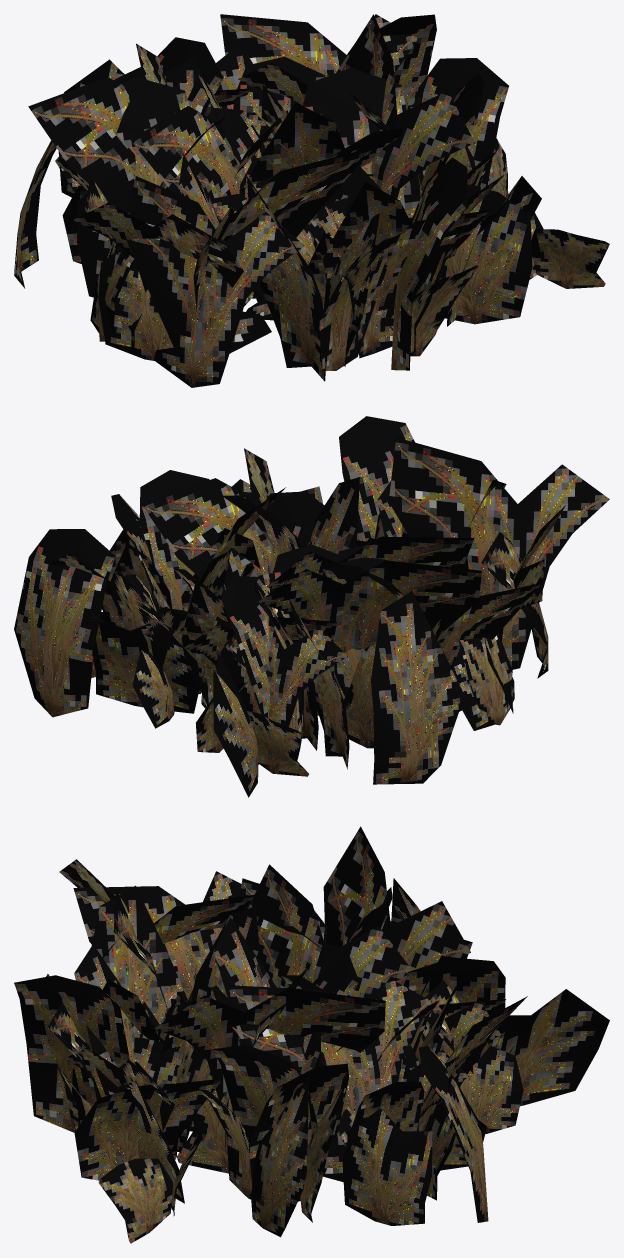
File: runtime-grass-patch-3.glb
3 views of the same model, one above another, from view 1: azimuth 30°, elevation 25°; view 2: azimuth 150°, elevation 25°; view 3: azimuth 270°, elevation 25° (orthographic). The views are drawn at different scales.
Visible parts, largest first — view 1: grasspatch3; view 2: grasspatch3; view 3: grasspatch3.
Boxes of the visible parts, x1,y1,x2,y2 form: grasspatch3: [14, 14, 609, 387]; grasspatch3: [14, 416, 609, 797]; grasspatch3: [14, 826, 609, 1243].
Bounding box in the file's own units: 288 × 129 × 326.
Materials: 1 (1 with a texture image).
